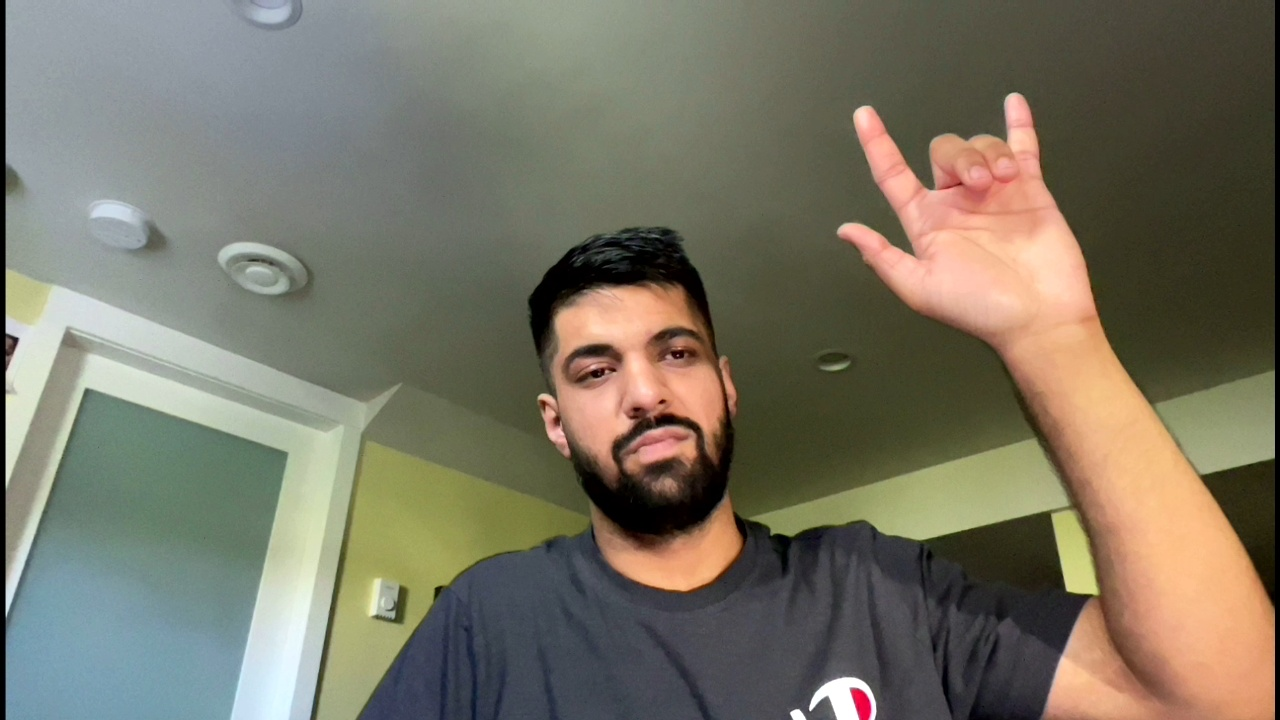HowYouDoing!: (829, 86, 1131, 339)
